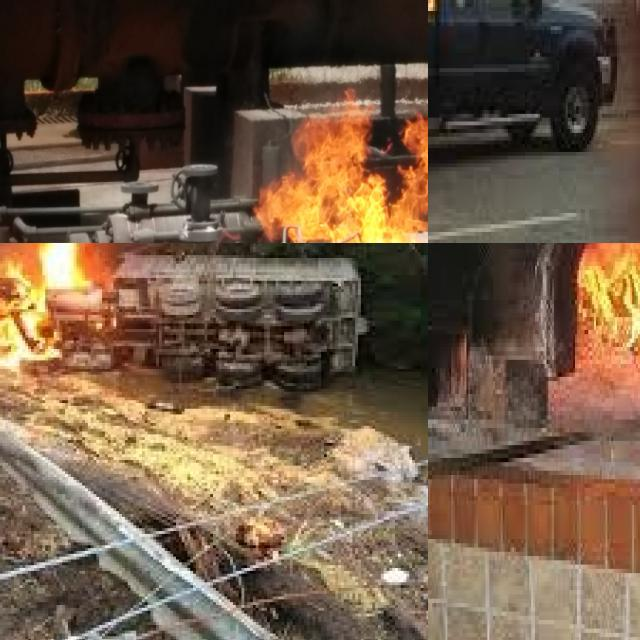fire: (263, 96, 428, 243), (0, 243, 139, 377), (561, 243, 640, 398)
